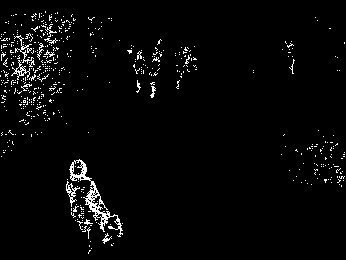person: (66, 158, 124, 251), (148, 49, 163, 98), (131, 50, 143, 91)
